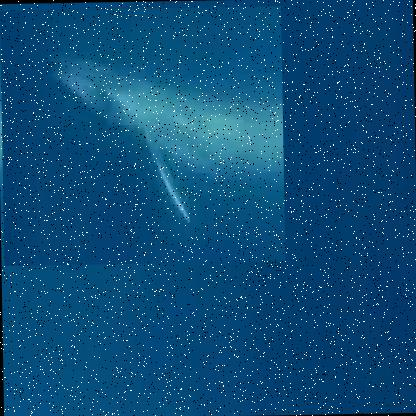blue_whale: (0, 4, 285, 266)
